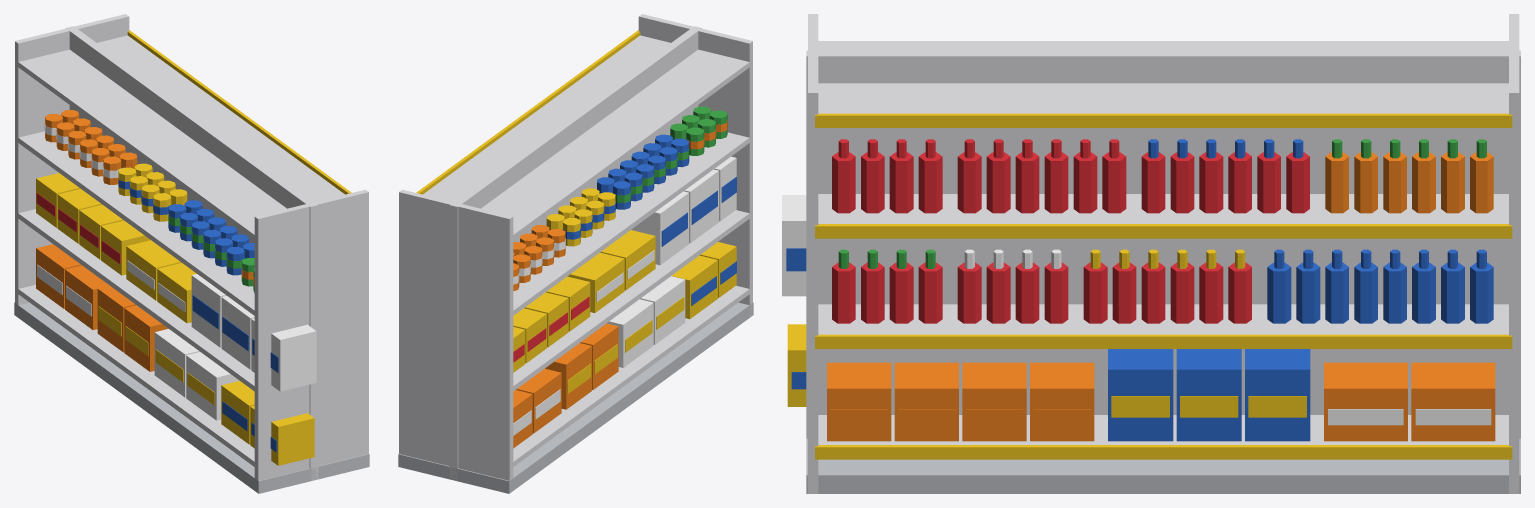
Rendered from gondola-b.glb.
3 renders of one model, left to right at view 1: azimuth 30°, elevation 25°; view 2: azimuth 150°, elevation 25°; view 3: azimuth 270°, elevation 25°, orthographic. The views are drawn at different scales.
Visible parts, largest first — view 1: gondola-b; view 2: gondola-b; view 3: gondola-b.
Part boxes in pixels (x1,y1,x2,y2): gondola-b: (14,14,369,493); gondola-b: (398,14,753,493); gondola-b: (782,14,1520,493).
Bounding box in the file's own units: 1.12 × 2.6 × 4.34.
